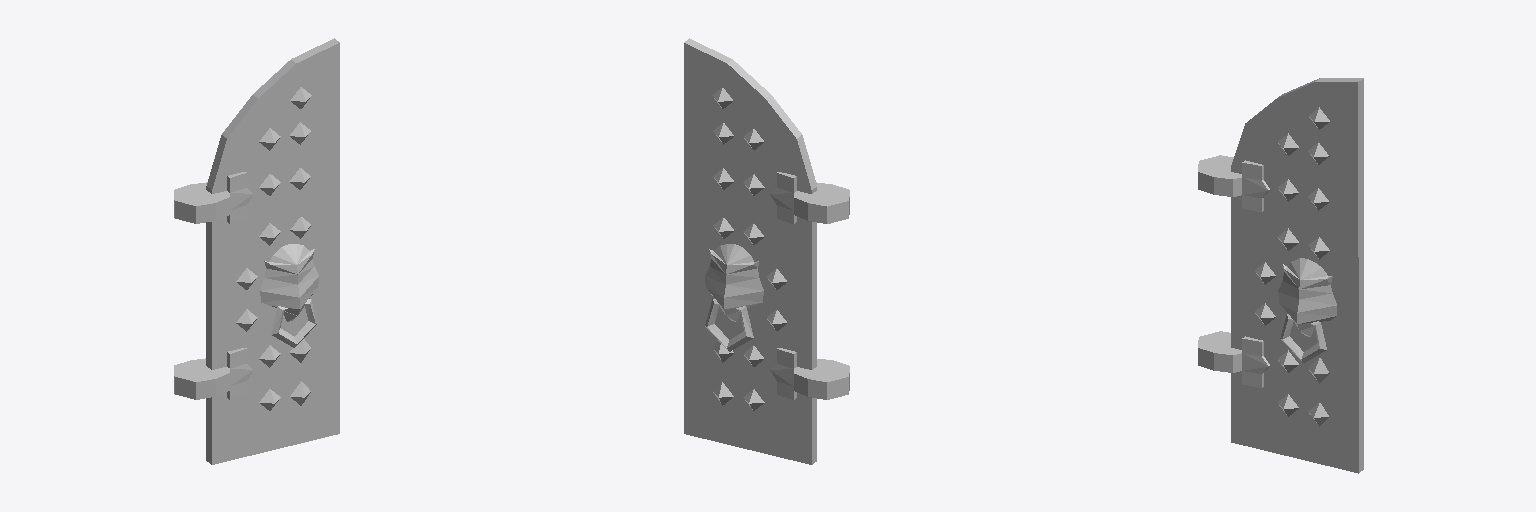
Rendered from ghost-train-door-right.obj.
3 renders of one model, left to right at view 1: azimuth 30°, elevation 25°; view 2: azimuth 150°, elevation 25°; view 3: azimuth 330°, elevation 25°, orthographic.
Visible parts, largest first — view 1: rood_right_Untitled.000; view 2: rood_right_Untitled.000; view 3: rood_right_Untitled.000.
Part boxes in pixels (left/top/right/bottom): rood_right_Untitled.000: left=174, top=38, right=339, bottom=464; rood_right_Untitled.000: left=684, top=38, right=849, bottom=464; rood_right_Untitled.000: left=1198, top=78, right=1363, bottom=473.
Bounding box in the file's own units: 0.7455 × 1.71 × 0.2113.